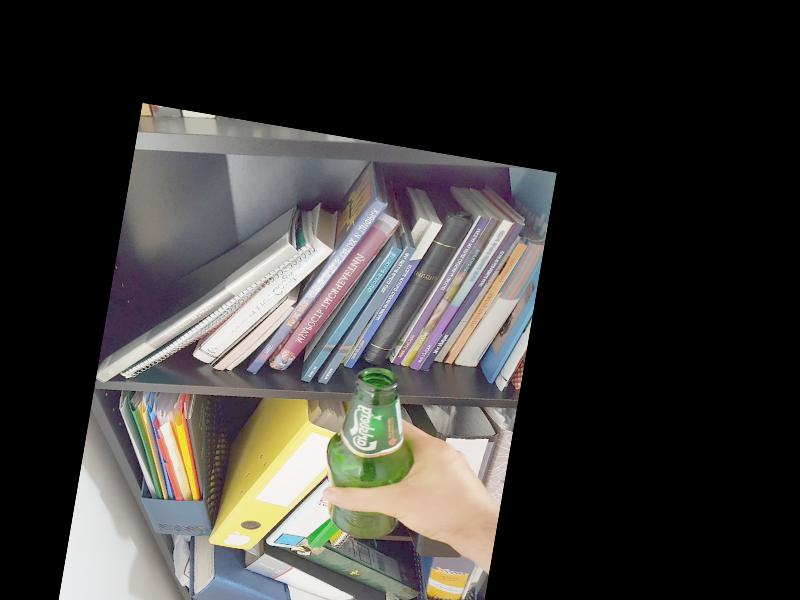Beer: (314, 362, 425, 545)
